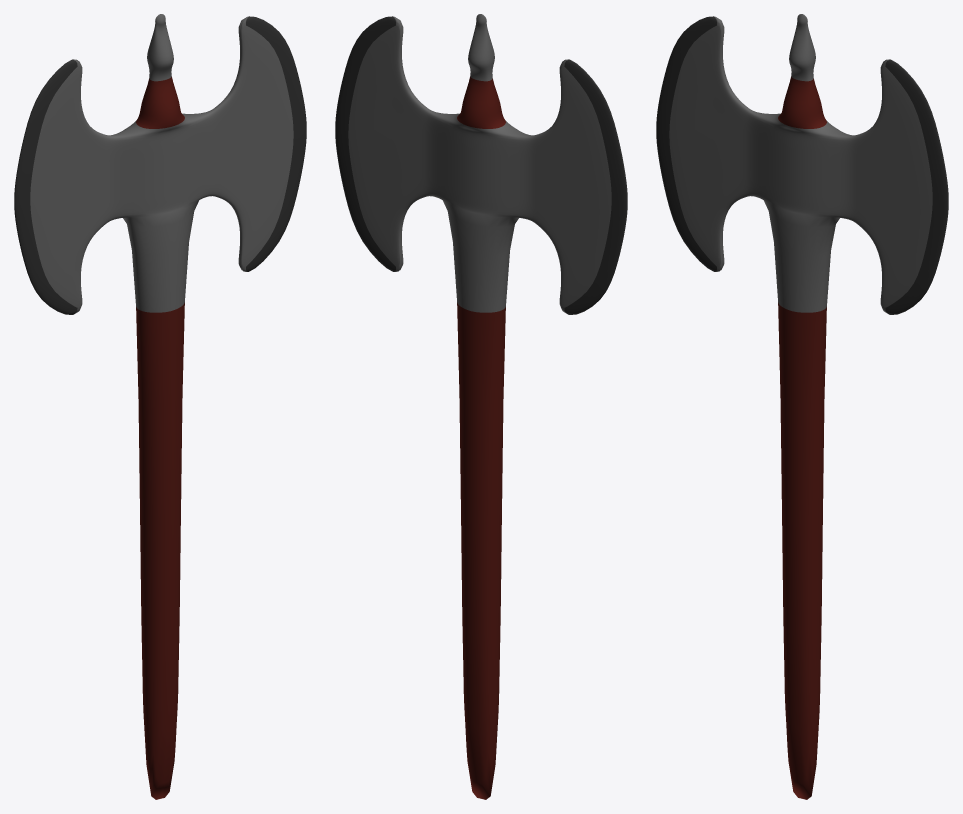
The model's file is Axe2.fbx.
3 renders of one model, left to right at view 1: azimuth 30°, elevation 25°; view 2: azimuth 150°, elevation 25°; view 3: azimuth 330°, elevation 25°, orthographic.
Visible parts, largest first — view 1: Cylinder; view 2: Cylinder; view 3: Cylinder.
Part boxes in pixels (<box>): Cylinder: <box>14,14,306,799</box>; Cylinder: <box>335,14,627,799</box>; Cylinder: <box>656,14,948,799</box>.
Bounding box in the file's own units: 59.9 × 154 × 7.18.
